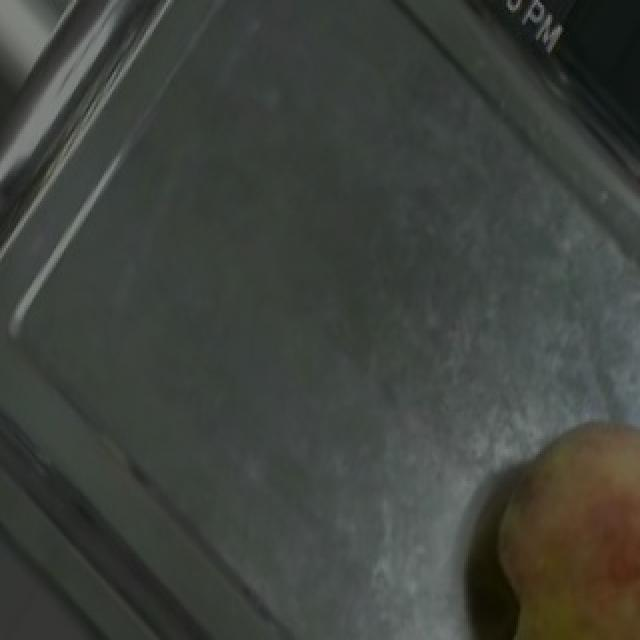Fruit: (466, 394, 640, 640)
